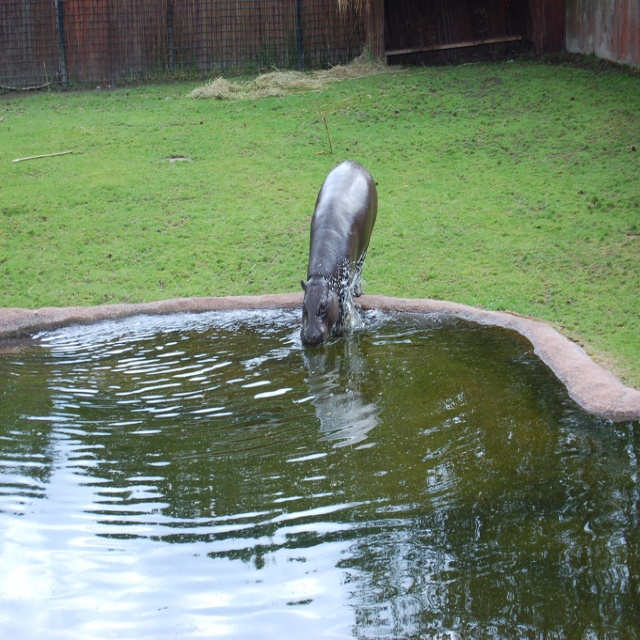Hippopotamus: (300, 160, 378, 345)
